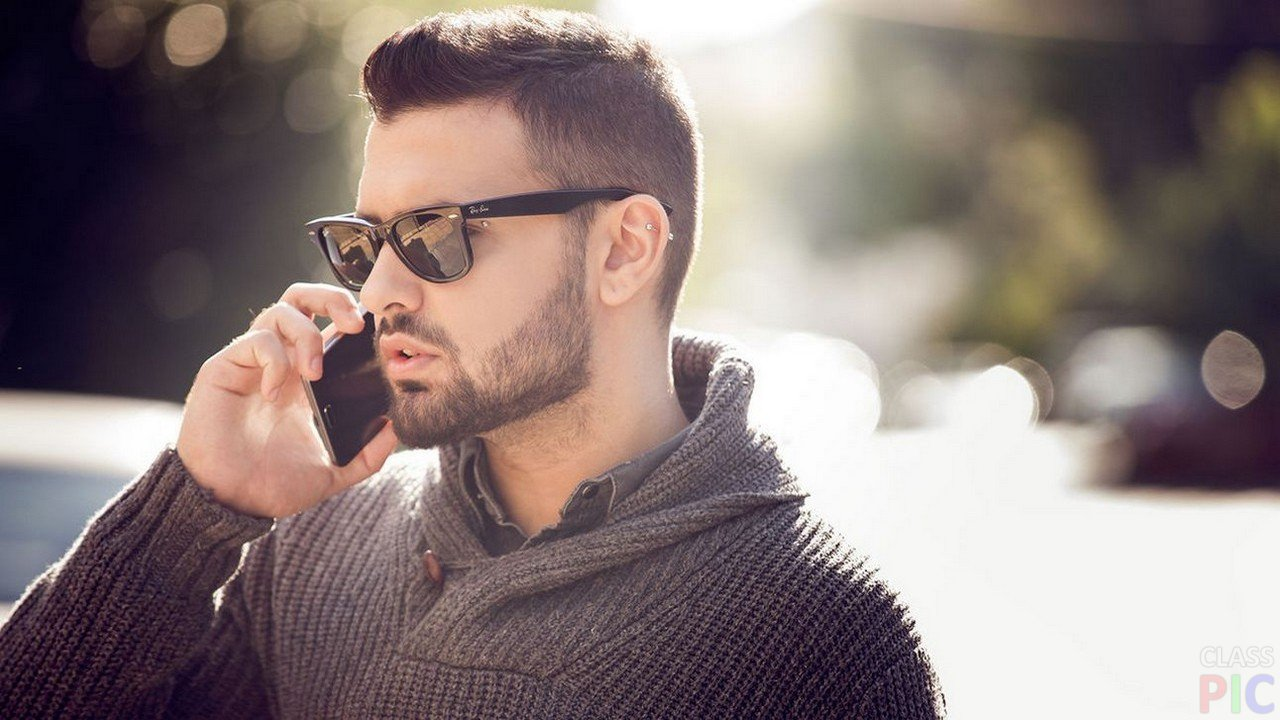glasses: (297, 181, 658, 285)
